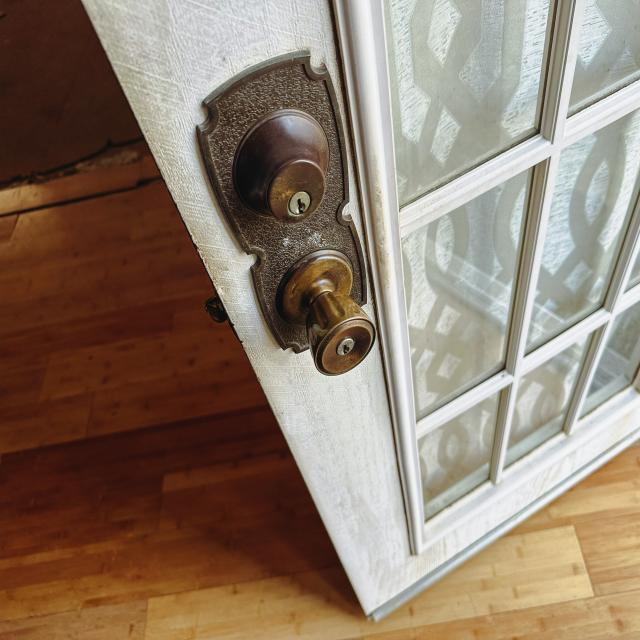door-knob: (276, 250, 376, 375)
